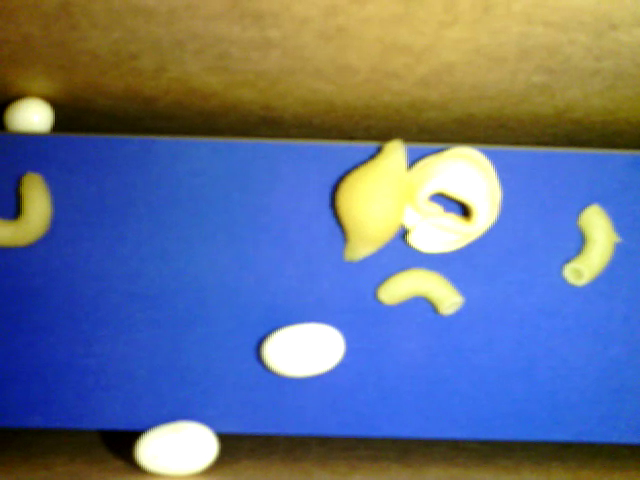elbow: (377, 267, 465, 317), (563, 203, 614, 288), (1, 172, 53, 246)
shell: (335, 138, 407, 261)
tortellini: (399, 146, 503, 254)
